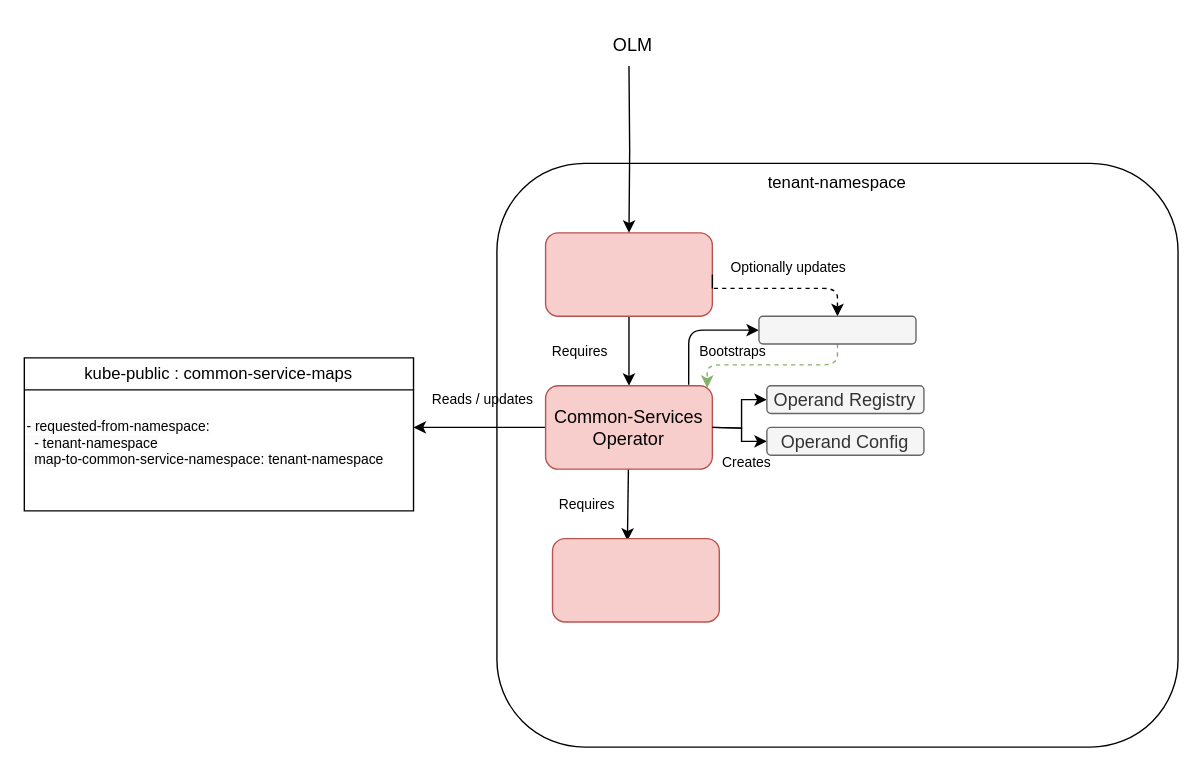
Image size: 1202x771. Some labels were removed from this diagram. The centre of each missing label's shape, as x and y in pixels:
Cloud Pak Capability Operator: (x=628, y=273)
CommonService CR: (x=837, y=329)
ODLM Operator: (x=635, y=579)
